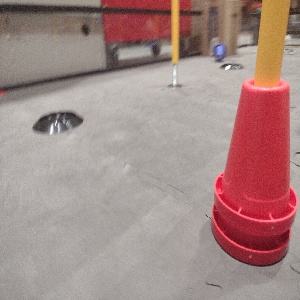Red_2: (210, 70, 298, 265)
